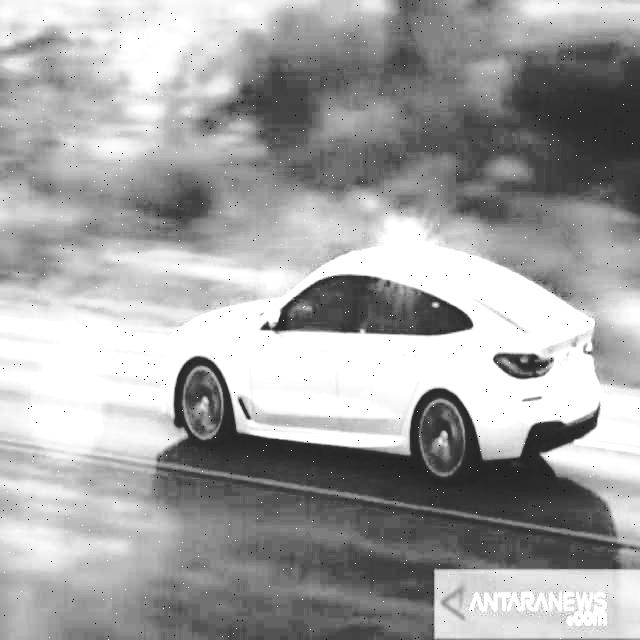Car: (151, 229, 616, 509)
